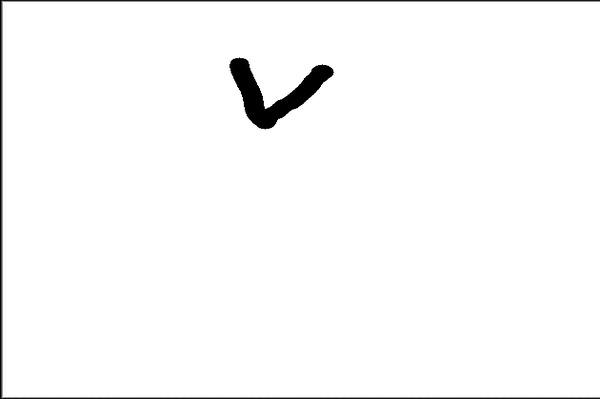V: (219, 46, 345, 137)
